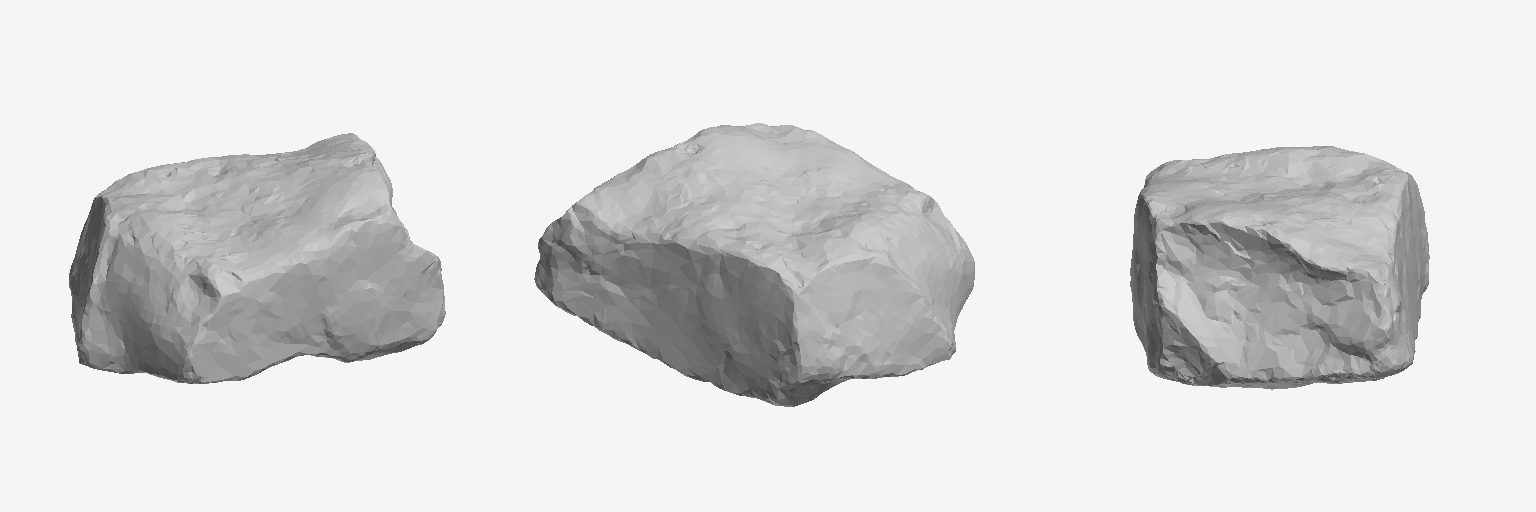
Rendered from rock3.obj.
3 views of the same model, side by side, from view 1: azimuth 30°, elevation 25°; view 2: azimuth 150°, elevation 25°; view 3: azimuth 270°, elevation 25° (orthographic).
Visible parts, largest first — view 1: moss_rock_08; view 2: moss_rock_08; view 3: moss_rock_08.
Boxes of the visible parts, x1,y1,x2,y2 form: moss_rock_08: [69, 133, 445, 383]; moss_rock_08: [534, 123, 974, 406]; moss_rock_08: [1130, 146, 1429, 389].
Bounding box in the file's own units: 1.69 × 0.7485 × 1.22.